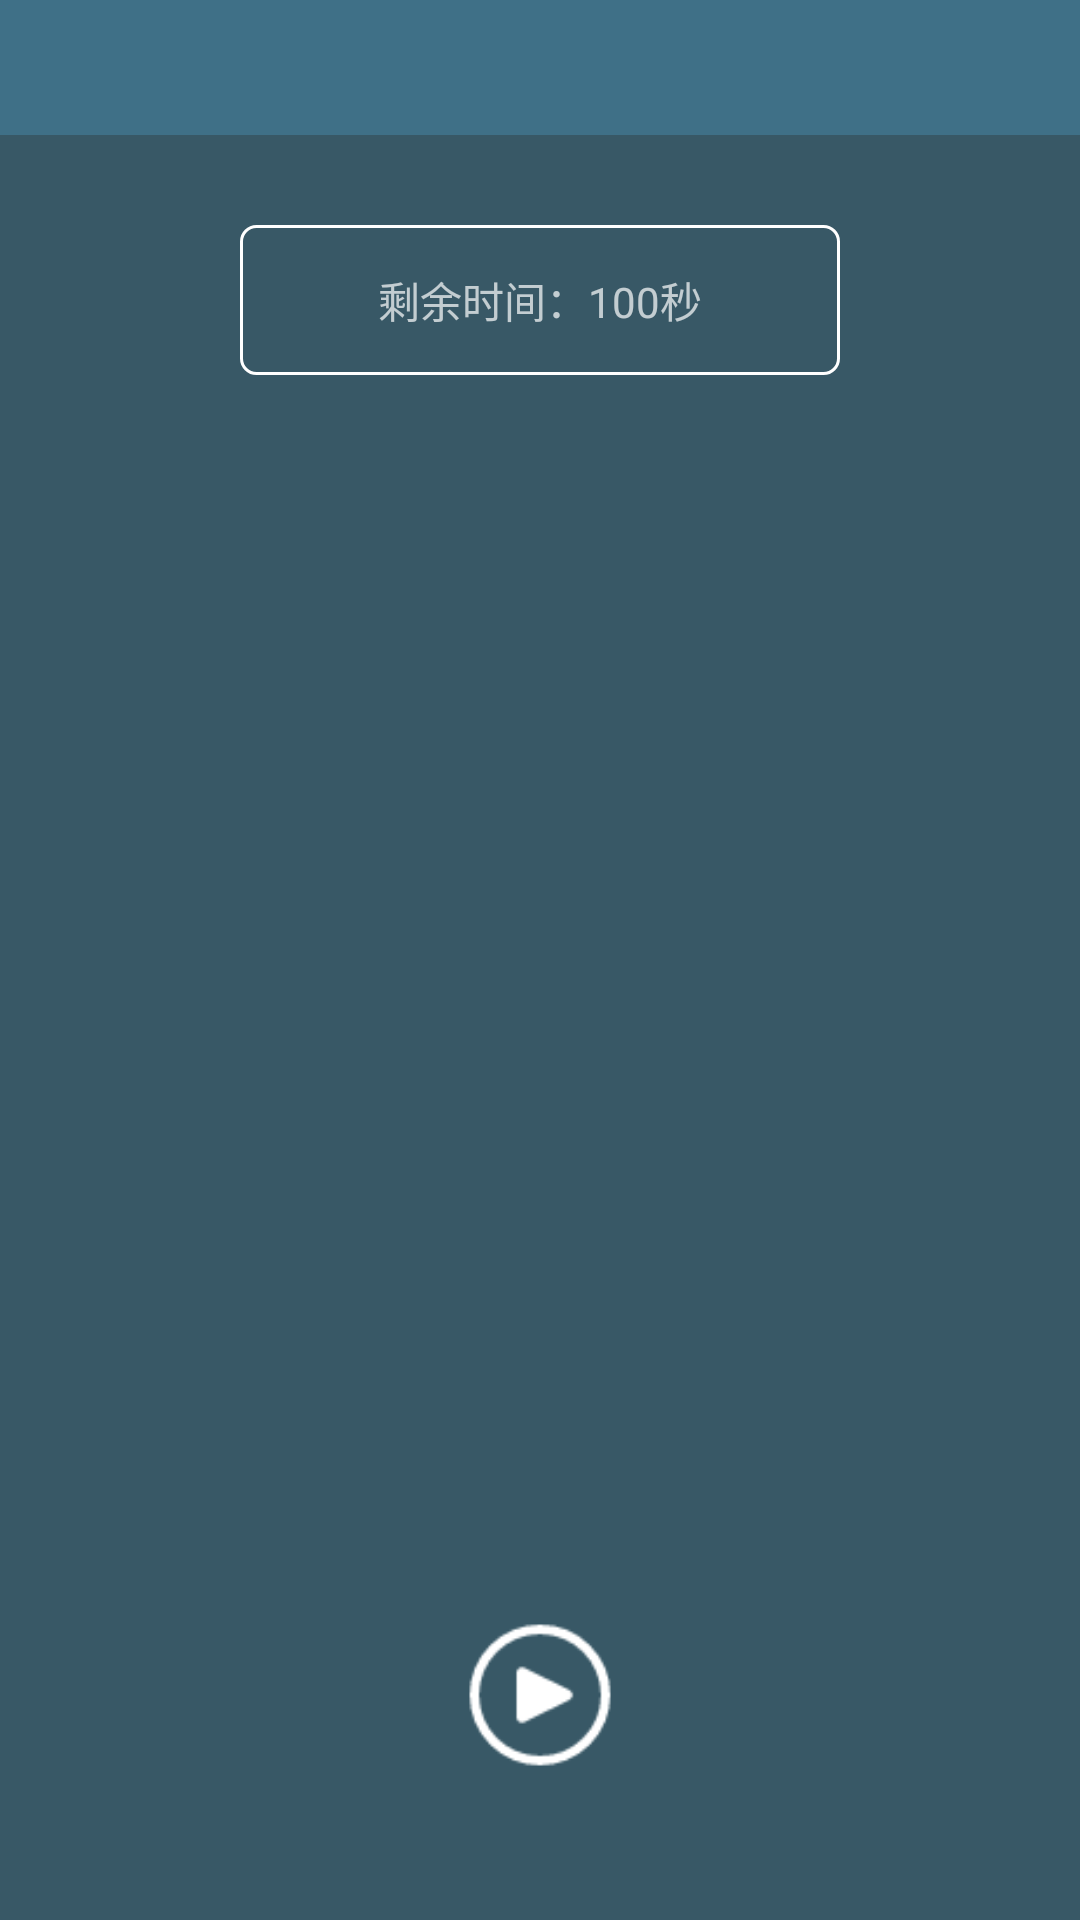

Screen size 1080px×1920px. Icon name, then its center in pixels as (x=x, y=y):
begin: (x=540, y=1695)
